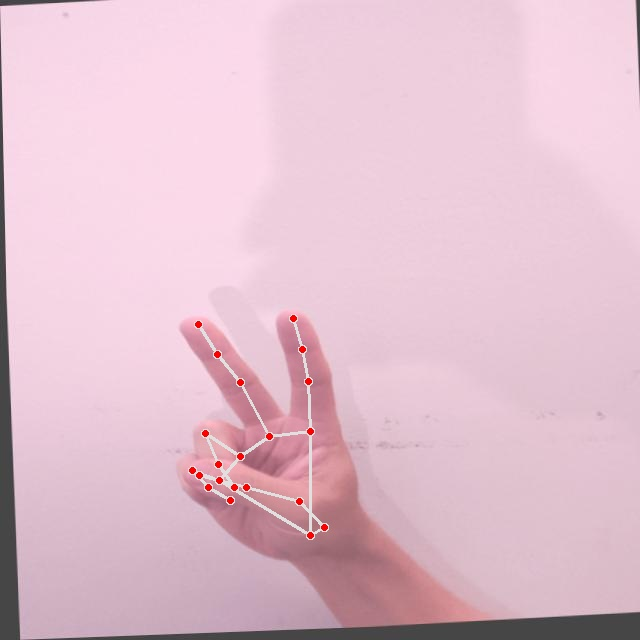V: (157, 304, 366, 576)
